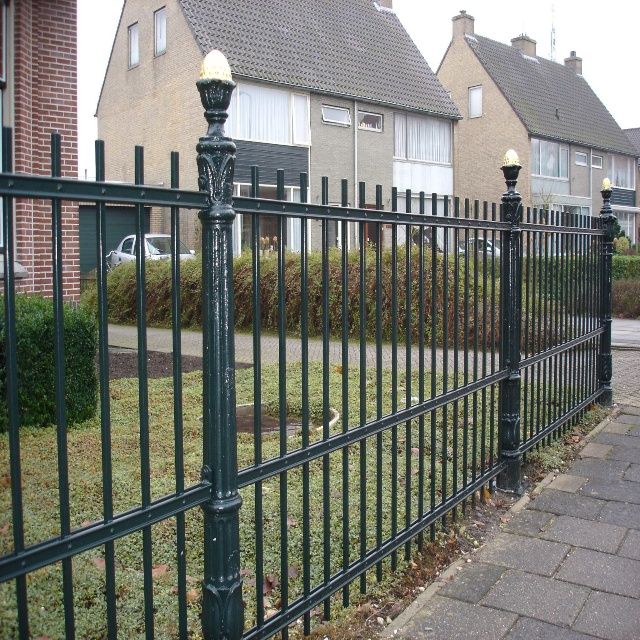obstacle: (0, 8, 519, 556)
